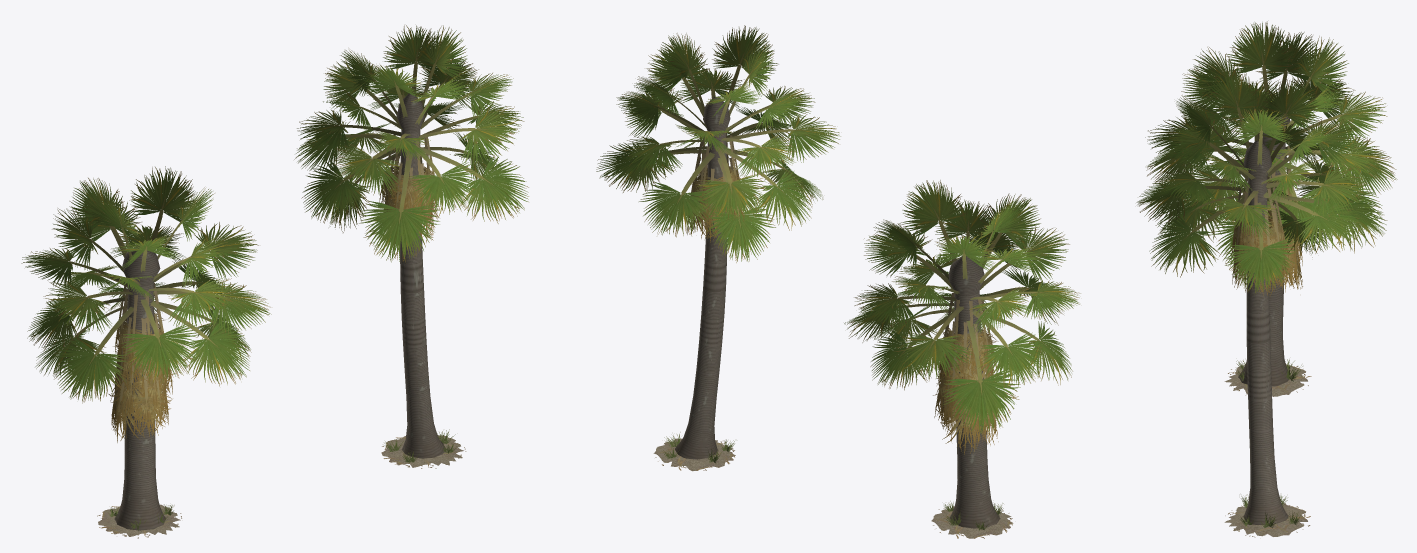
File: fan_palm.glb
3 views of the same model, side by side, from view 1: azimuth 30°, elevation 25°; view 2: azimuth 150°, elevation 25°; view 3: azimuth 270°, elevation 25° (orthographic). The views are drawn at different scales.
Parts seen in each view (by area): view 1: variant_a_lod0, variant_b_lod0; view 2: variant_a_lod0, variant_b_lod0; view 3: variant_b_lod0, variant_a_lod0.
Boxes of the visible parts, <box> form: variant_a_lod0: <box>21,166,271,538</box>; variant_b_lod0: <box>294,25,528,468</box>; variant_a_lod0: <box>844,180,1080,538</box>; variant_b_lod0: <box>596,25,840,471</box>; variant_b_lod0: <box>1136,69,1387,537</box>; variant_a_lod0: <box>1145,21,1397,396</box>.
Size of what is drawn, in the model's own units: 11.98 by 10.07 by 5.85.
Materials: 2 (2 with a texture image).
